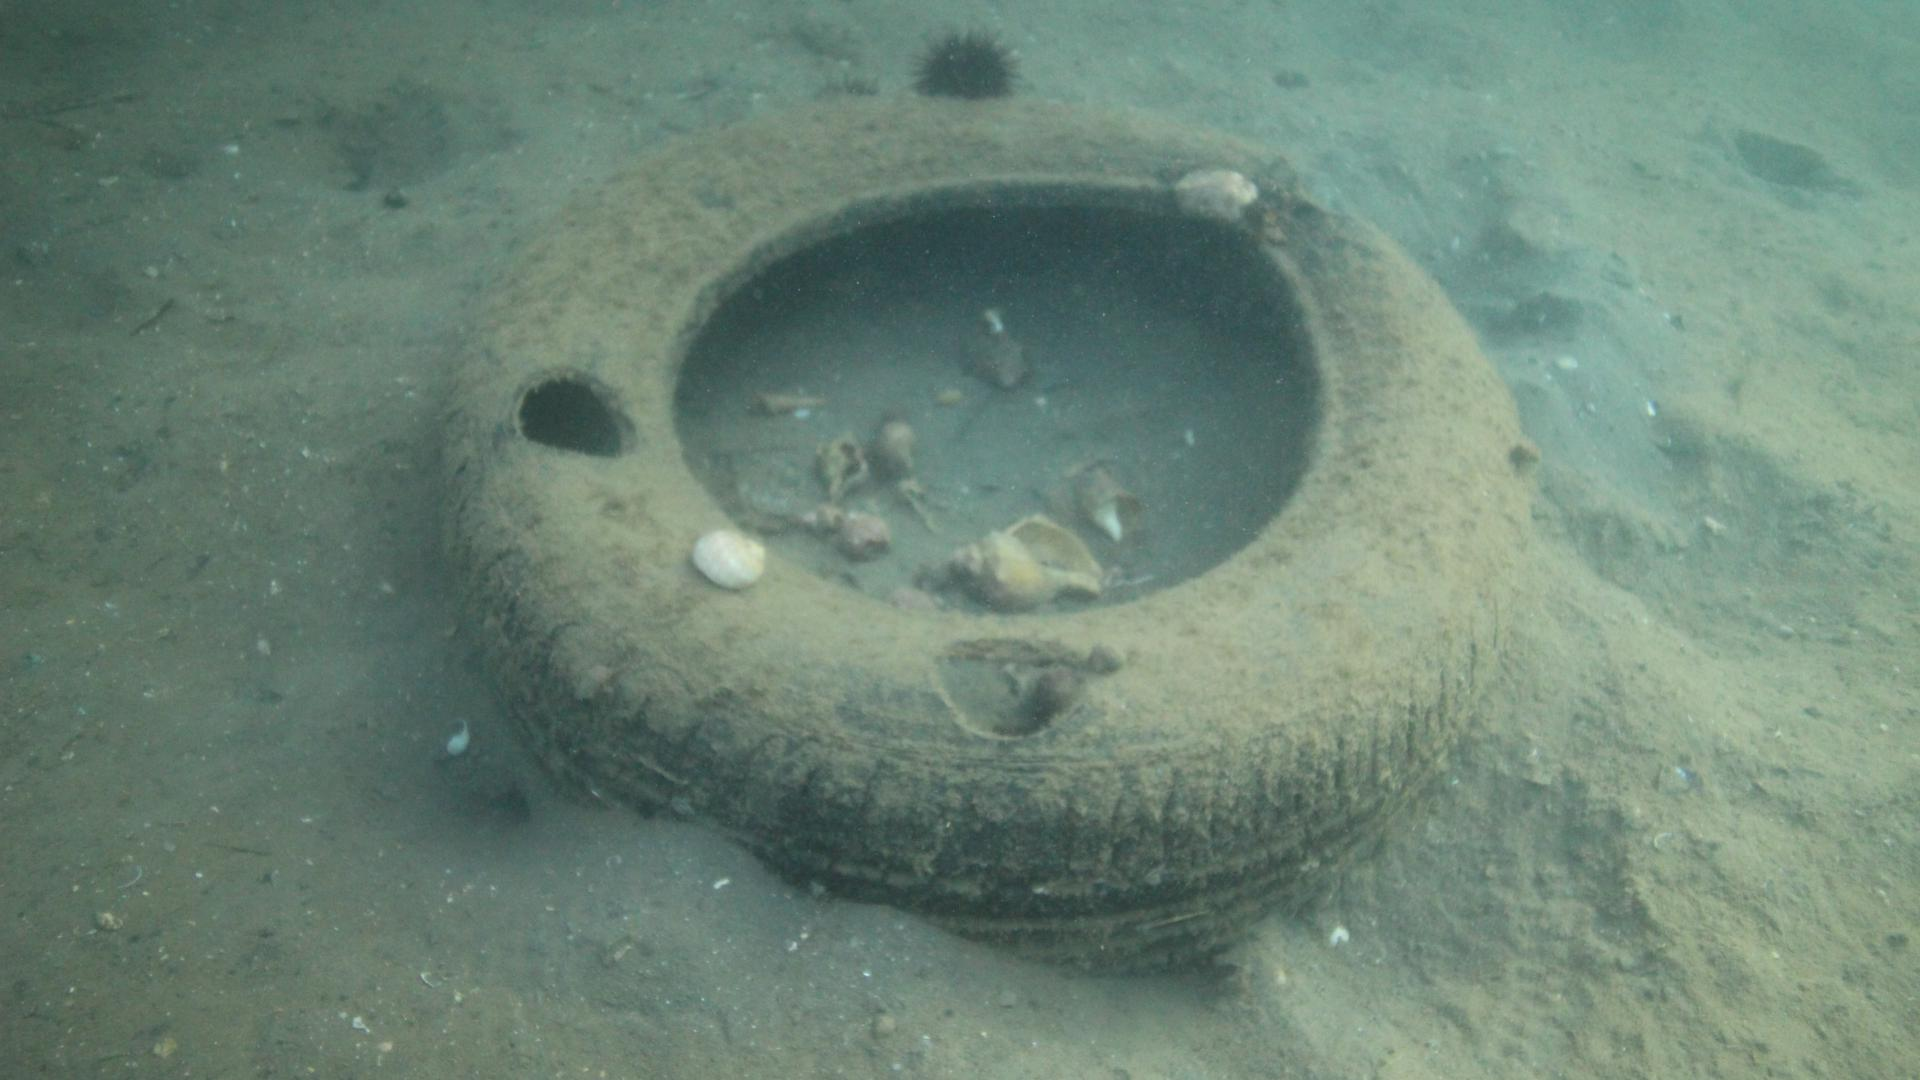tire: (435, 94, 1530, 977)
